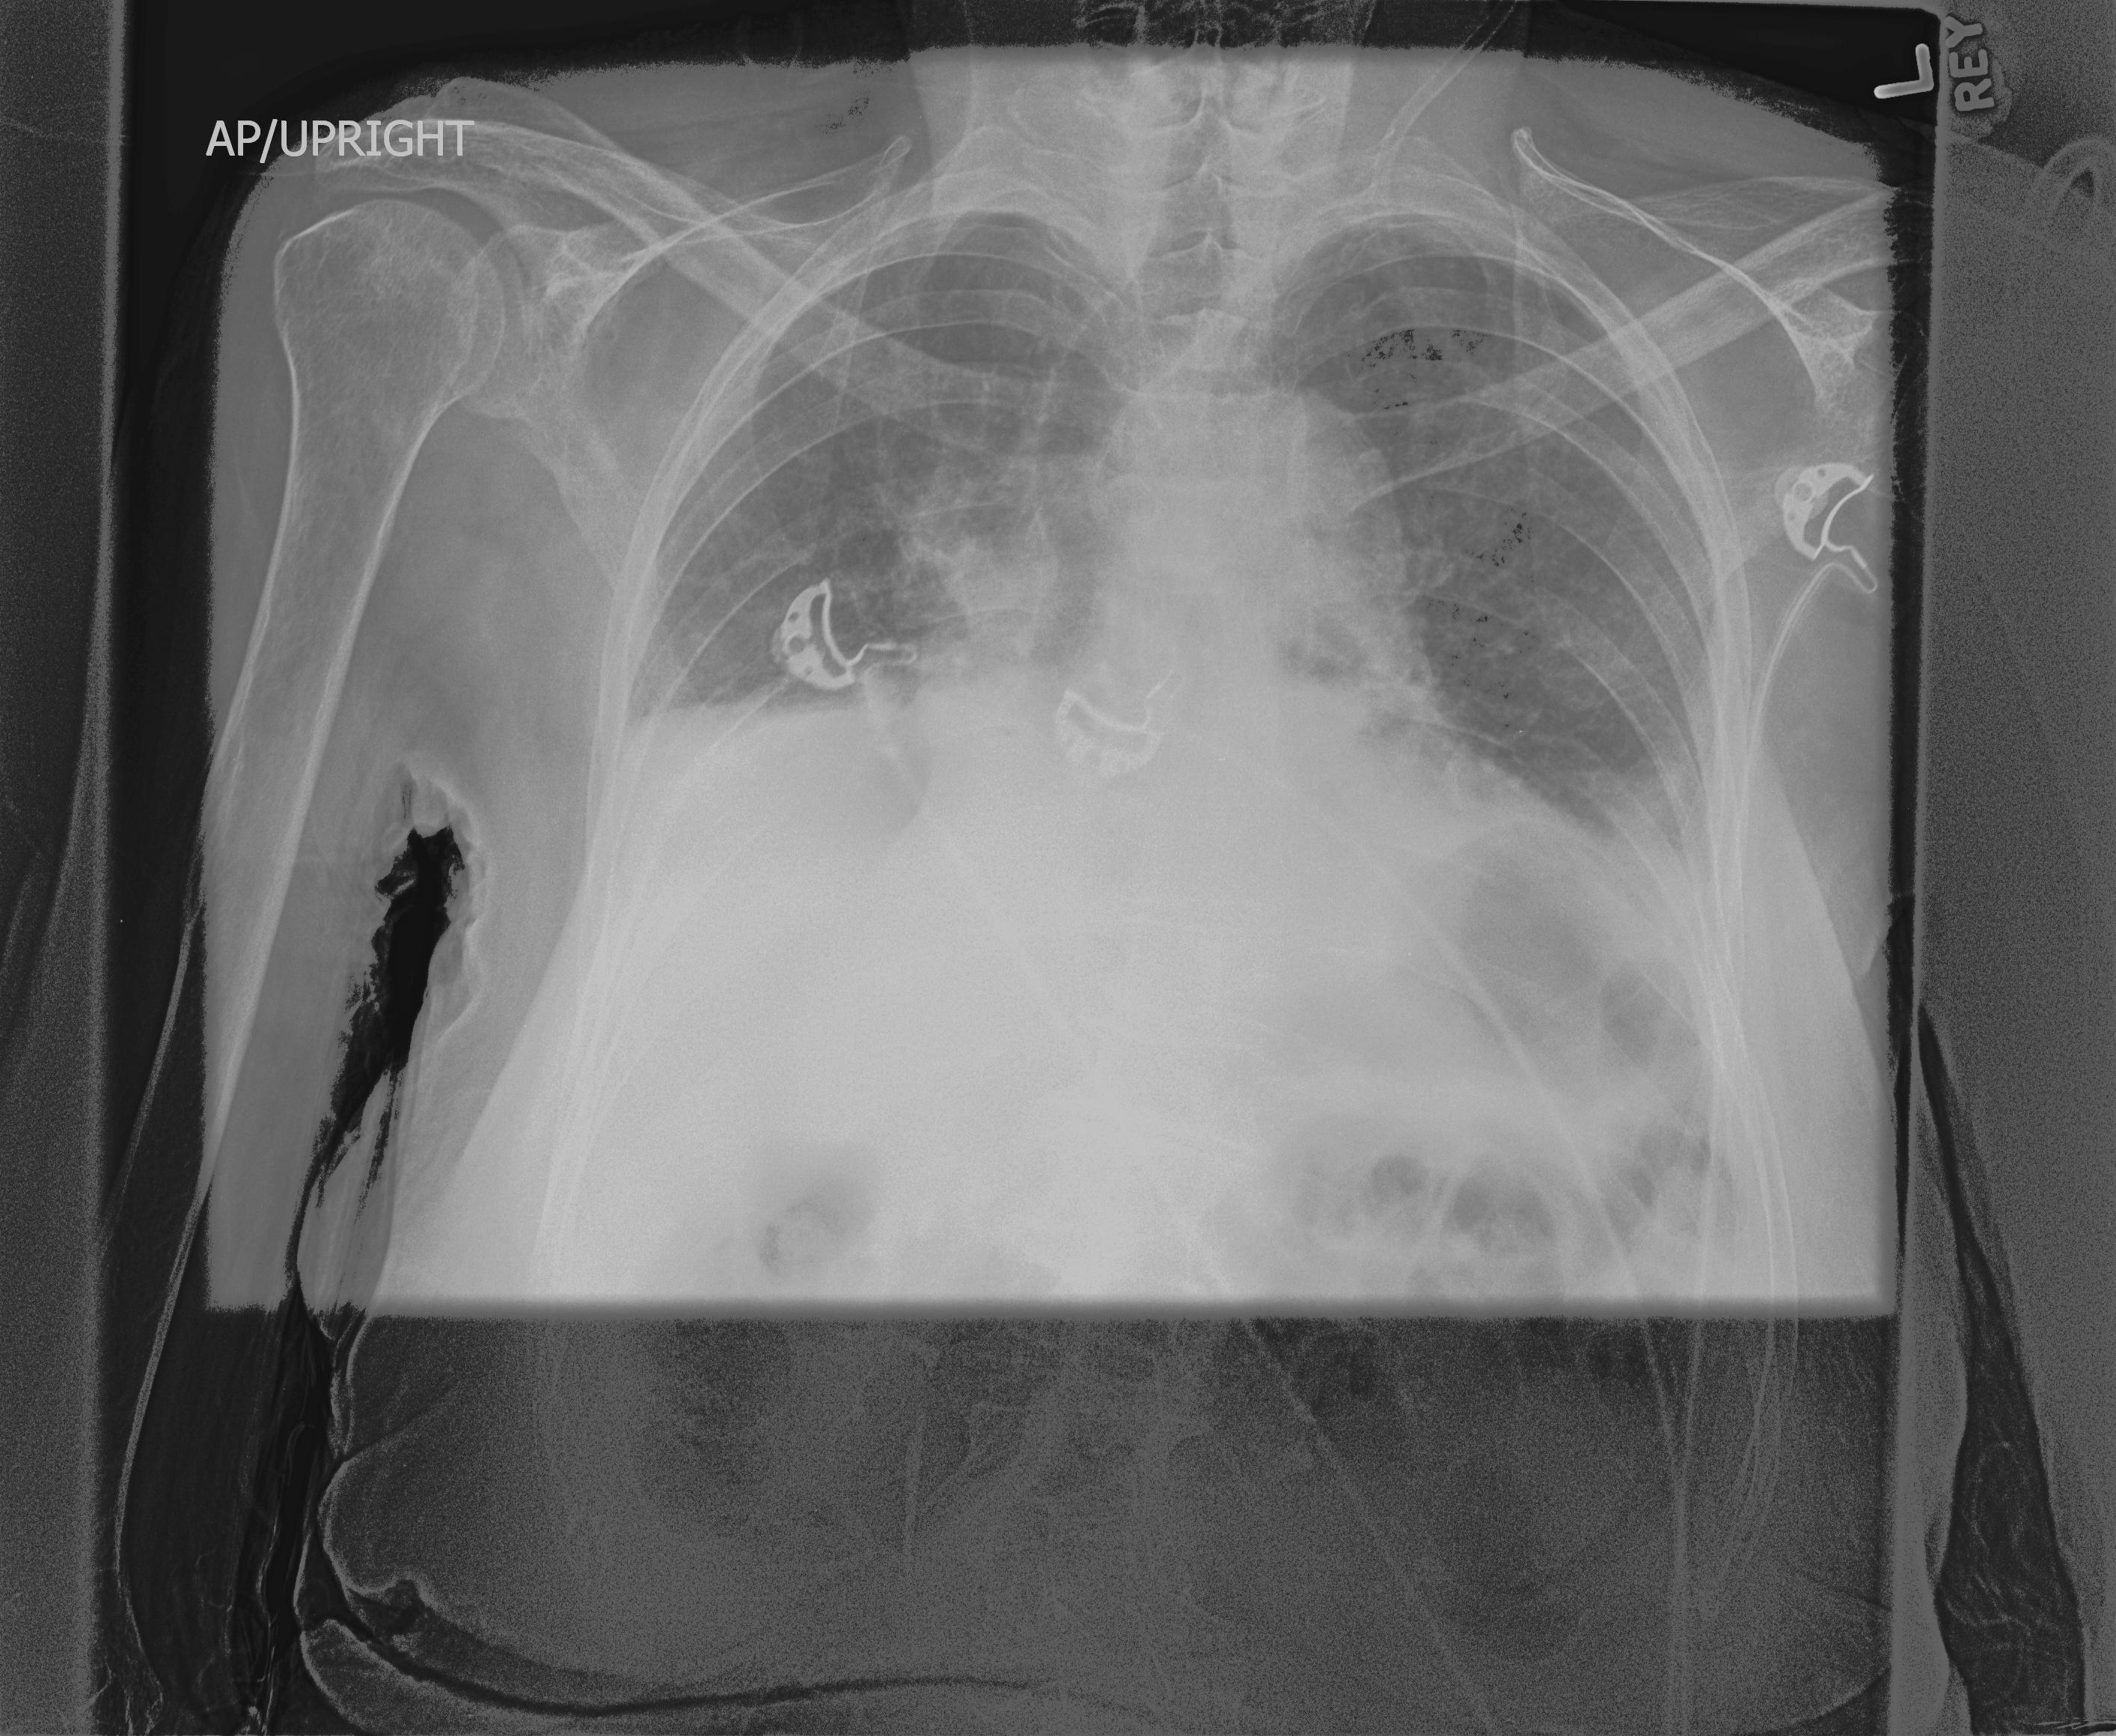Pleural Effusion: (548, 694, 917, 987), (1476, 796, 1801, 1060)
